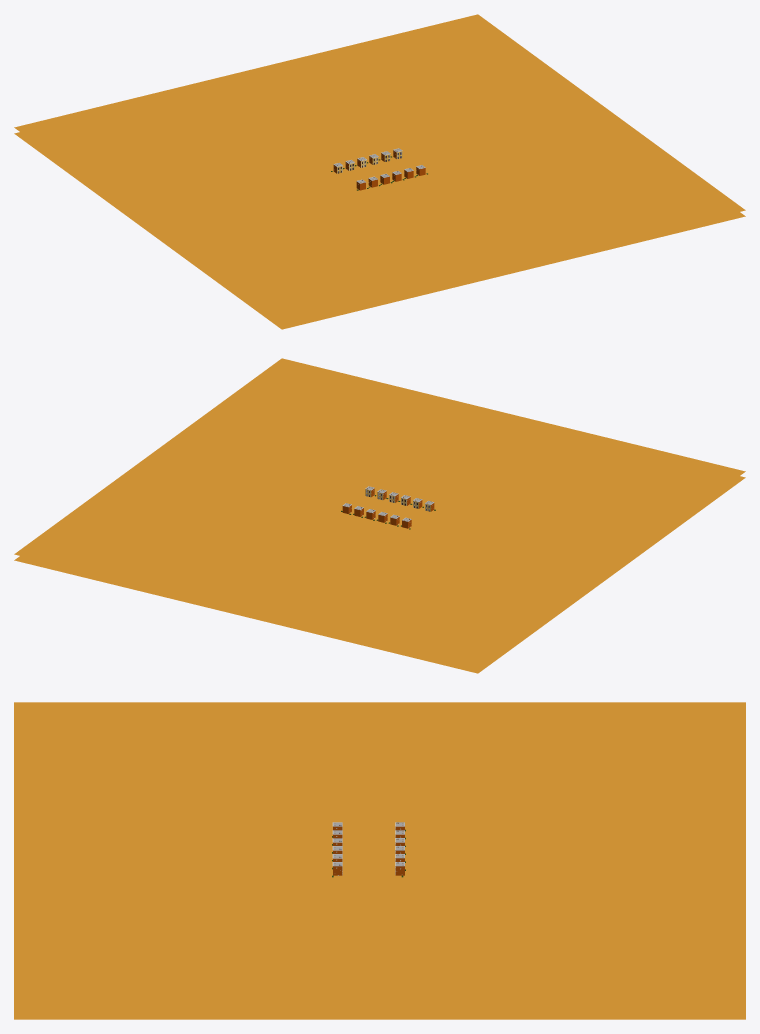
File: city_block.glb
3 views of the same model, one above another, from view 1: azimuth 30°, elevation 25°; view 2: azimuth 150°, elevation 25°; view 3: azimuth 270°, elevation 25° (orthographic). The views are drawn at different scales.
Parts seen in each view (by area): view 1: Plane.001, Plane; view 2: Plane.001, Plane; view 3: Plane.001, Plane.
Boxes of the visible parts, <box> form: Plane.001: <box>14,14,745,323</box>; Plane: <box>14,132,745,329</box>; Plane.001: <box>14,358,745,667</box>; Plane: <box>14,476,745,673</box>; Plane.001: <box>14,702,745,1011</box>; Plane: <box>14,1011,745,1019</box>.
Size of the model in its own units: 1557 by 44.55 by 1557.
3 materials, 1 textured.
